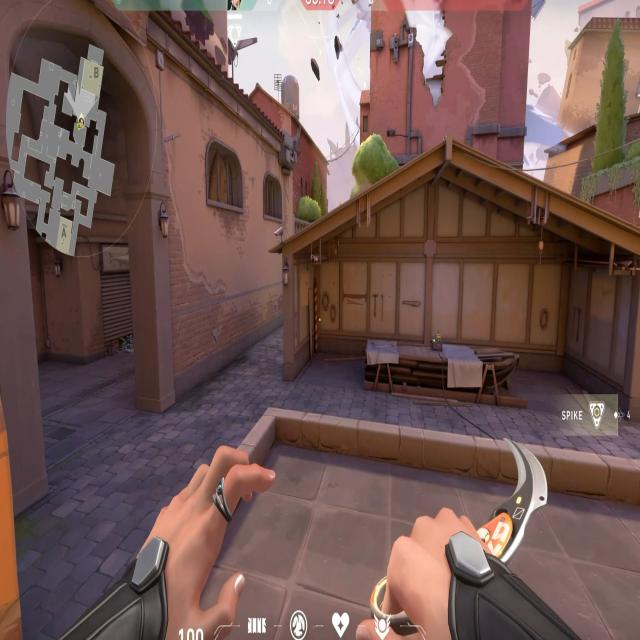B_Garage_Left: (282, 232, 398, 389)
B_Garage_Right: (493, 250, 640, 418)
Throwables: (203, 135, 246, 221), (258, 161, 288, 225)
